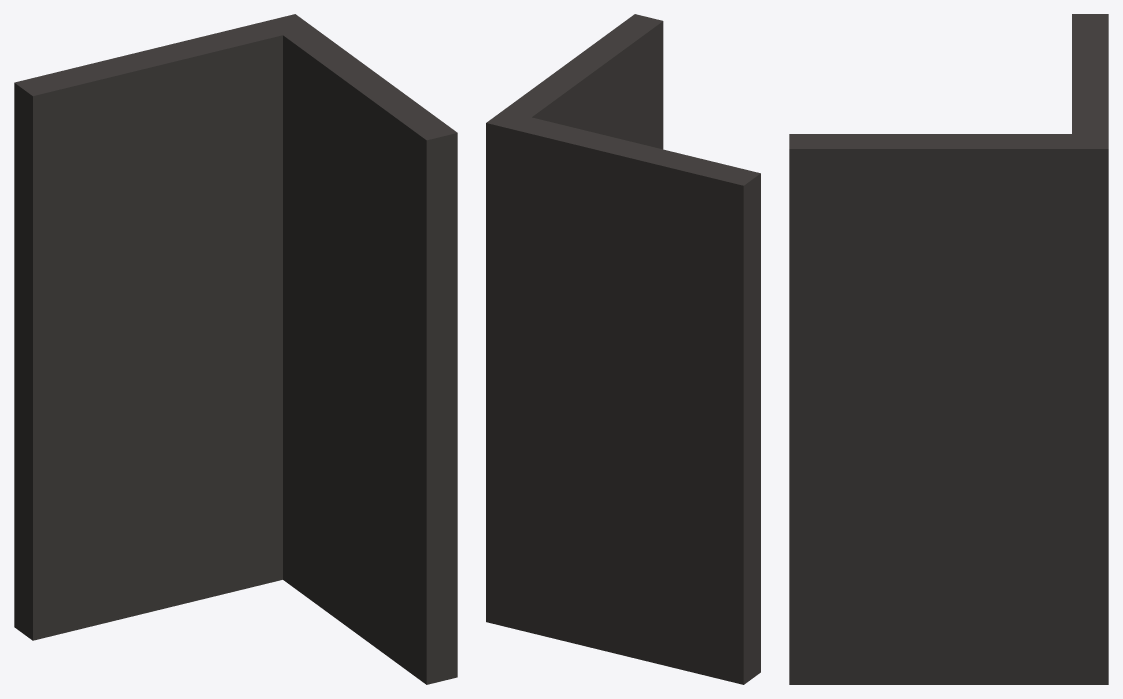
The model's file is Wall_23.fbx.
The picture shows the model from 3 angles, left to right: view 1: azimuth 30°, elevation 25°; view 2: azimuth 150°, elevation 25°; view 3: azimuth 270°, elevation 25°; orthographic projection. The views are drawn at different scales.
Visible parts, largest first — view 1: Wall_23; view 2: Wall_23; view 3: Wall_23.
Boxes of the visible parts, x1,y1,x2,y2 form: Wall_23: (14,14,457,684); Wall_23: (486,14,760,684); Wall_23: (789,14,1108,684).
Bounding box in the file's own units: 140 × 259 × 140.
